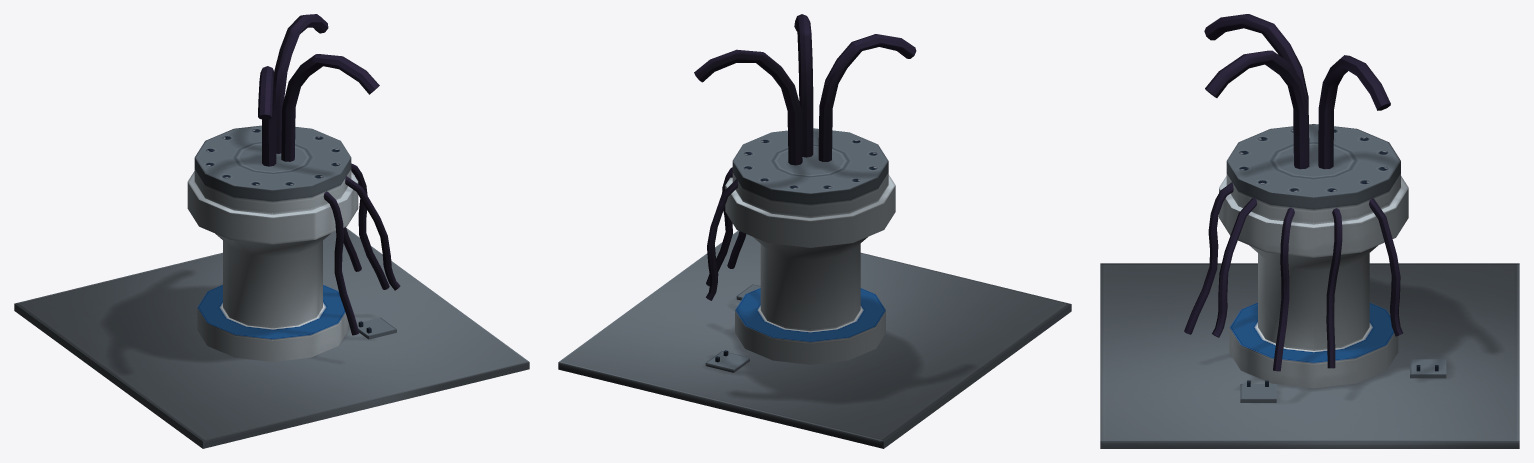
The model's file is Tx_prop_engineering prop_15.fbx.
3 views of the same model, side by side, from view 1: azimuth 30°, elevation 25°; view 2: azimuth 150°, elevation 25°; view 3: azimuth 270°, elevation 25° (orthographic). The views are drawn at different scales.
Parts seen in each view (by area): view 1: Tx_prop_engineering_prop_9; view 2: Tx_prop_engineering_prop_9; view 3: Tx_prop_engineering_prop_9.
Part boxes in pixels (x1,y1,x2,y2): Tx_prop_engineering_prop_9: (14, 14, 529, 448); Tx_prop_engineering_prop_9: (558, 14, 1071, 448); Tx_prop_engineering_prop_9: (1100, 14, 1519, 448).
Bounding box in the file's own units: 4.29 × 3.7 × 4.29.
Materials: 1 (1 with a texture image).
